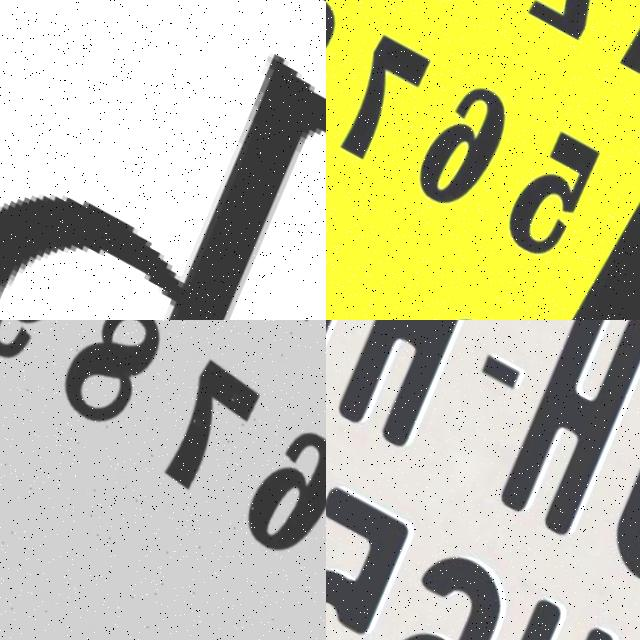0: (358, 261, 519, 320), (194, 613, 326, 640)
5: (472, 80, 623, 283), (326, 466, 419, 640)
6: (391, 40, 534, 225), (326, 520, 523, 640), (214, 378, 326, 578), (585, 320, 640, 601)
7: (116, 320, 281, 528), (326, 0, 448, 193)
8: (27, 320, 196, 455)
9: (0, 320, 100, 401)
B: (0, 40, 326, 320)
H: (484, 320, 640, 534), (326, 320, 501, 458)
U: (432, 576, 620, 640)
